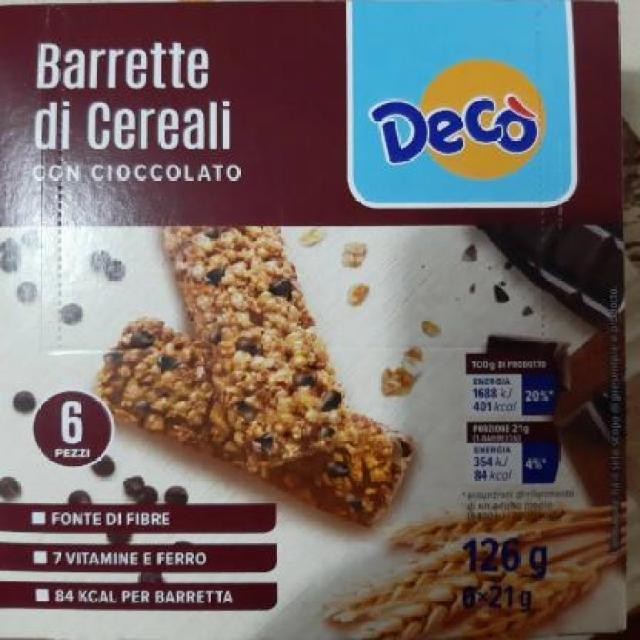Cereal bar: (10, 14, 630, 636)
